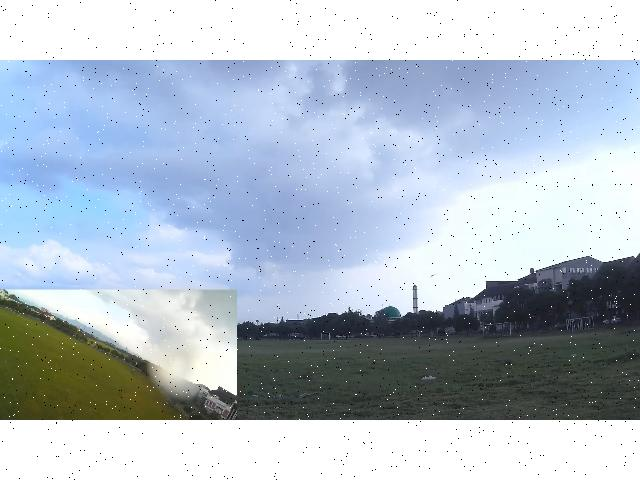Anti-Drone: (427, 271, 439, 281)
